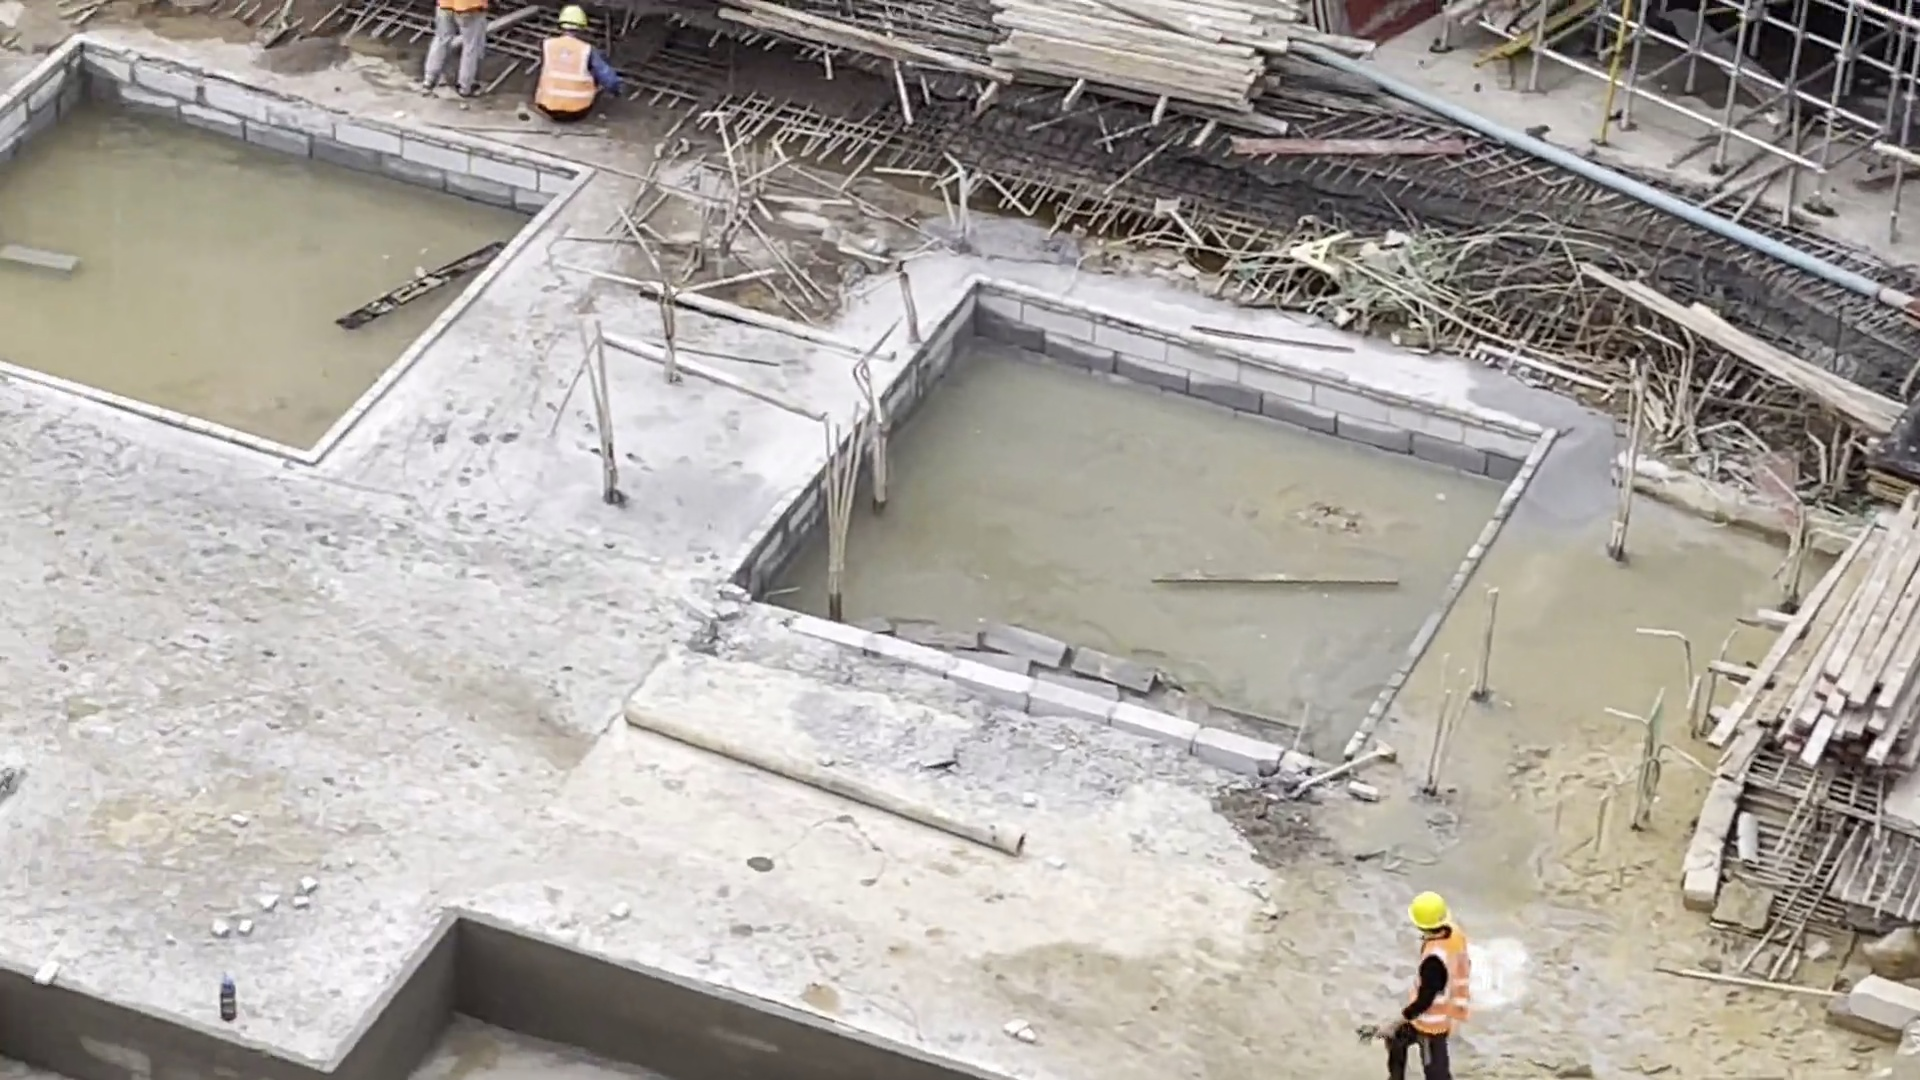helmet: (1405, 890, 1451, 928), (559, 4, 590, 33)
person: (1376, 885, 1471, 1080), (528, 1, 615, 126), (420, 1, 491, 99)
vest: (1418, 926, 1468, 1048), (534, 35, 597, 113)
wood: (1706, 485, 1920, 772), (978, 1, 1315, 130)
